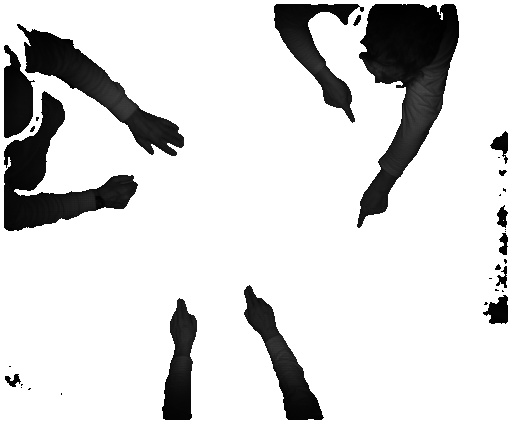fist: (101, 171, 143, 215)
hand: (134, 110, 183, 159), (316, 76, 359, 126), (240, 280, 277, 335), (352, 184, 391, 231), (168, 296, 199, 350)
